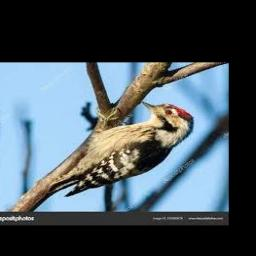Woodpecker: (48, 101, 194, 197)
